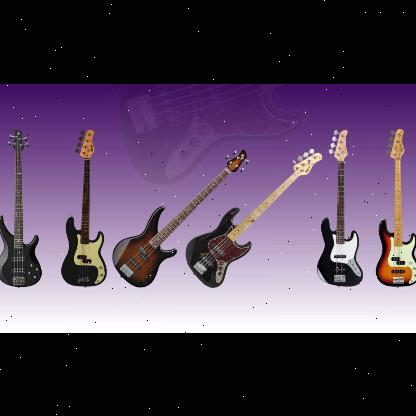bass: (110, 148, 248, 286), (187, 147, 323, 287), (61, 126, 108, 288), (317, 128, 363, 286), (0, 131, 42, 287), (377, 128, 415, 286)
